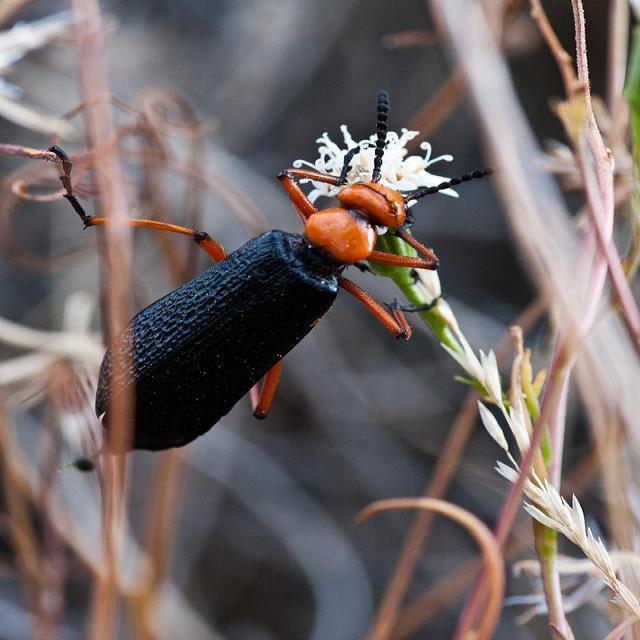BlisterBeetle-Adult-: (54, 84, 516, 457)
